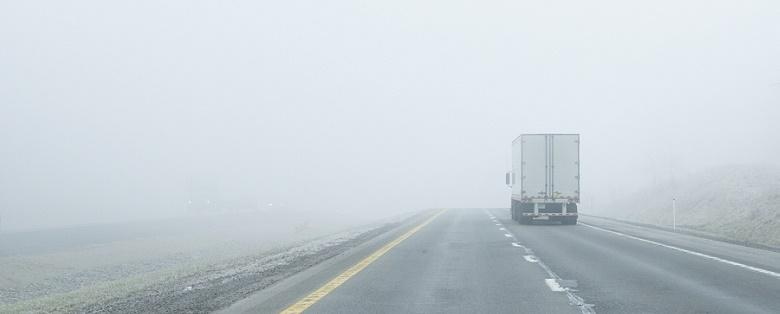bus: (504, 131, 583, 226)
